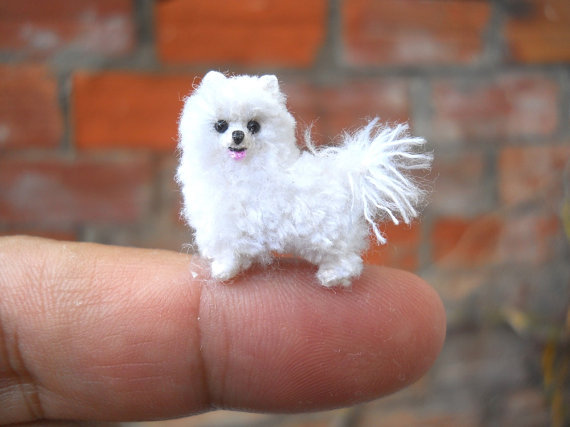pomeranian: (163, 56, 437, 298)
